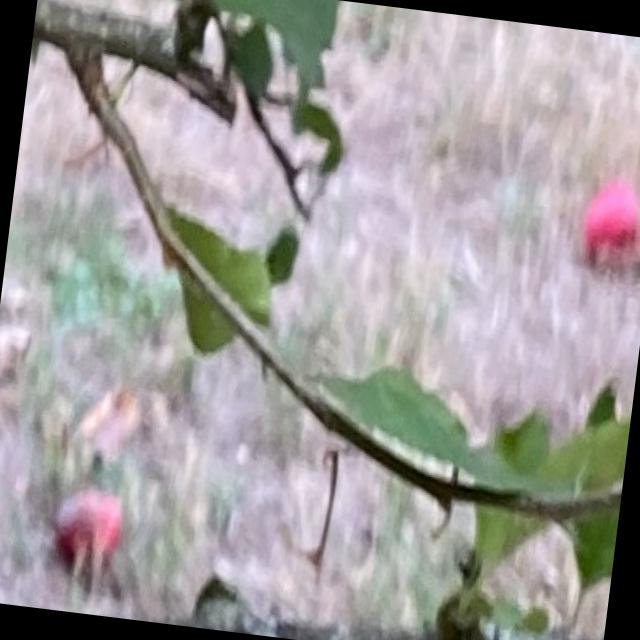Apples: (47, 488, 123, 572), (577, 175, 639, 270)
